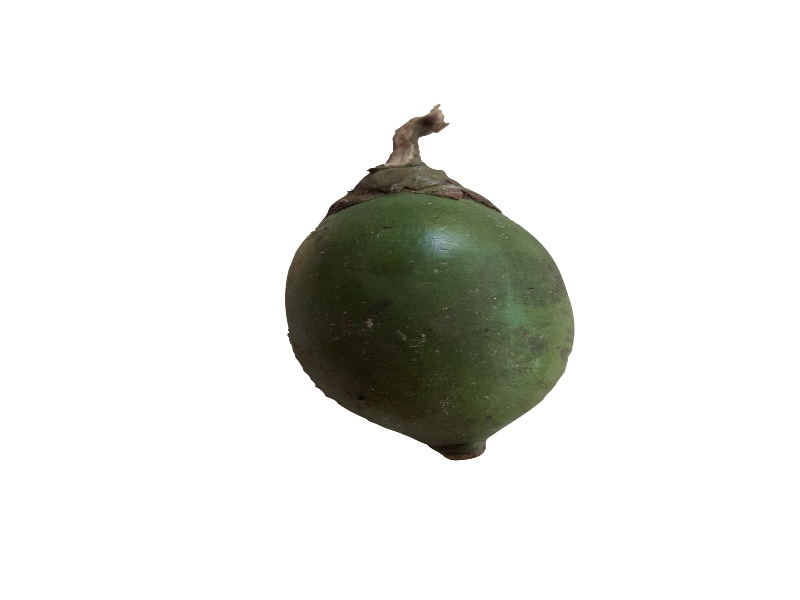arecanut: (266, 98, 598, 469)
